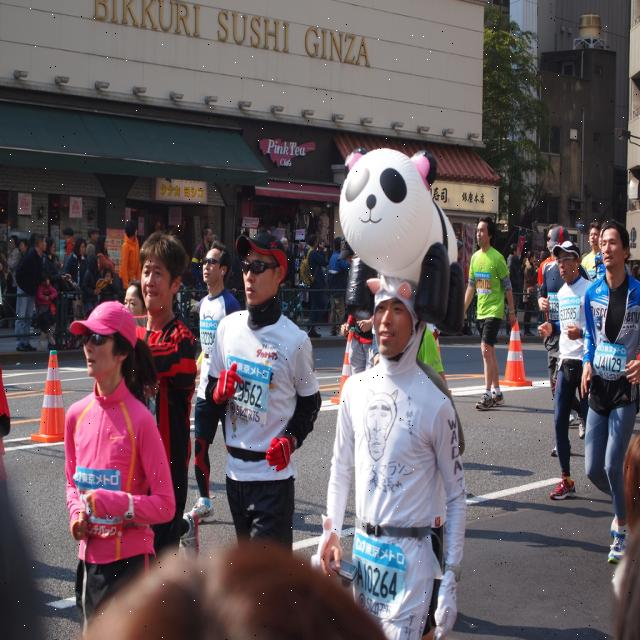panda: (338, 145, 468, 332)
